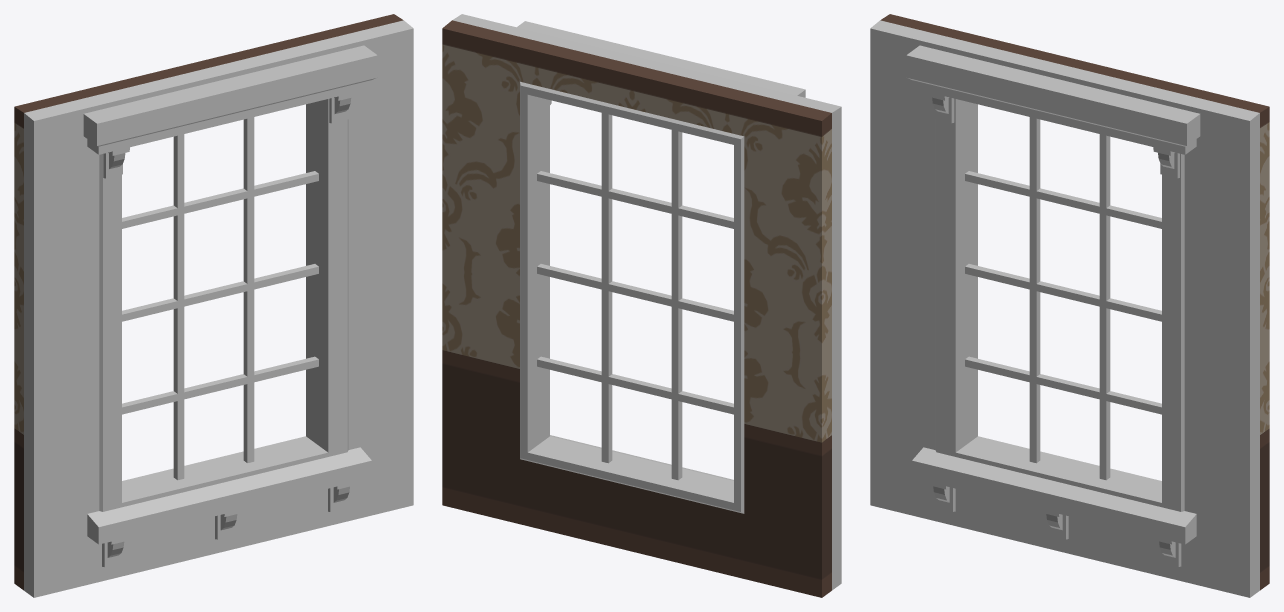
Rendered from WALL WINDOWS.fbx.
3 renders of one model, left to right at view 1: azimuth 30°, elevation 25°; view 2: azimuth 150°, elevation 25°; view 3: azimuth 330°, elevation 25°, orthographic.
Parts seen in each view (by area): view 1: Wall Windows; view 2: Wall Windows; view 3: Wall Windows.
Boxes of the visible parts, x1,y1,x2,y2 form: Wall Windows: [14, 14, 413, 597]; Wall Windows: [442, 14, 841, 597]; Wall Windows: [870, 14, 1269, 597].
Bounding box in the file's own units: 250 × 301 × 39.5.
